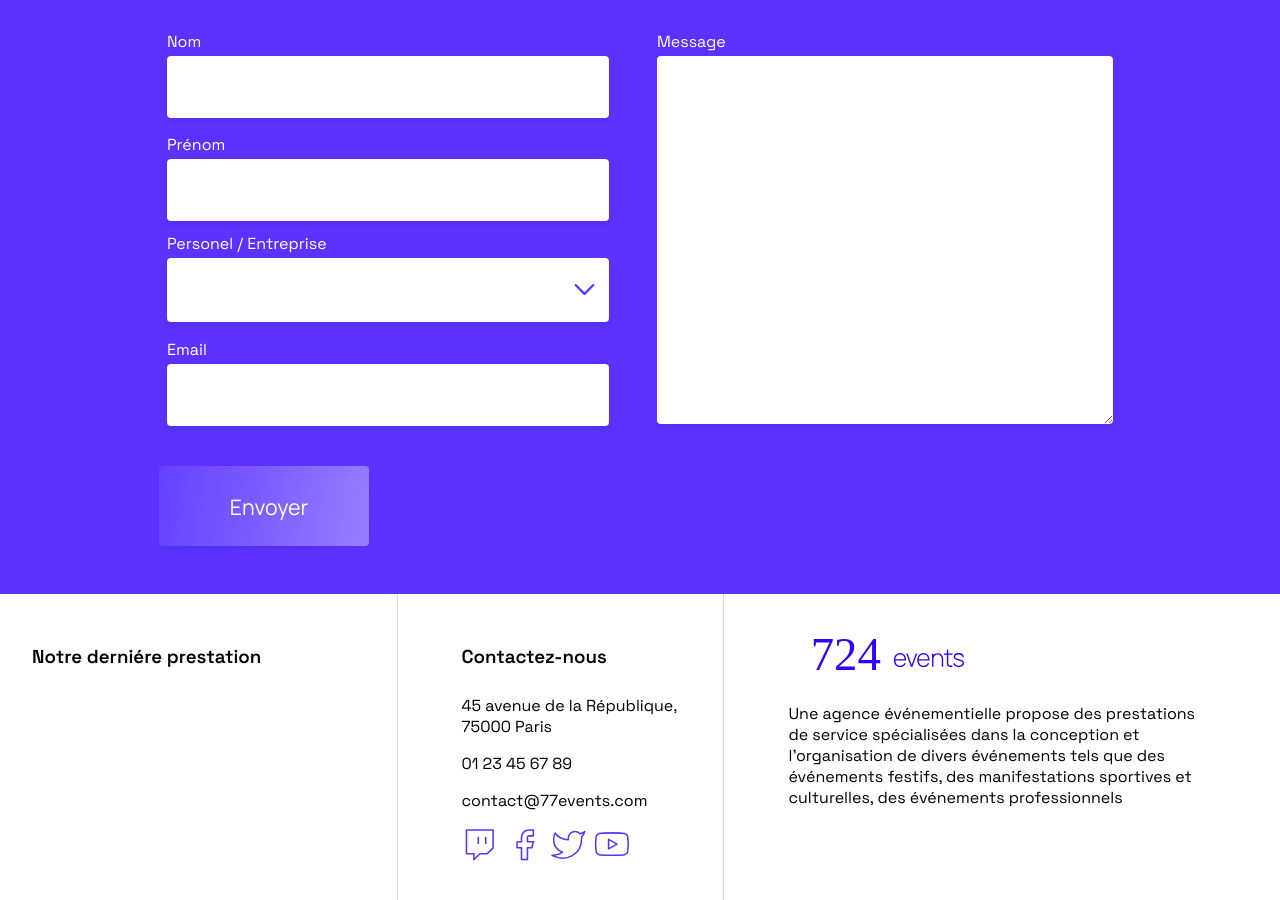
Test case: When Form is created › and a click is triggered on the submit button › the success message is displayed
(page scrolled)
Click the button "Envoyer" at [264, 506], box 159,466 -> 369,546
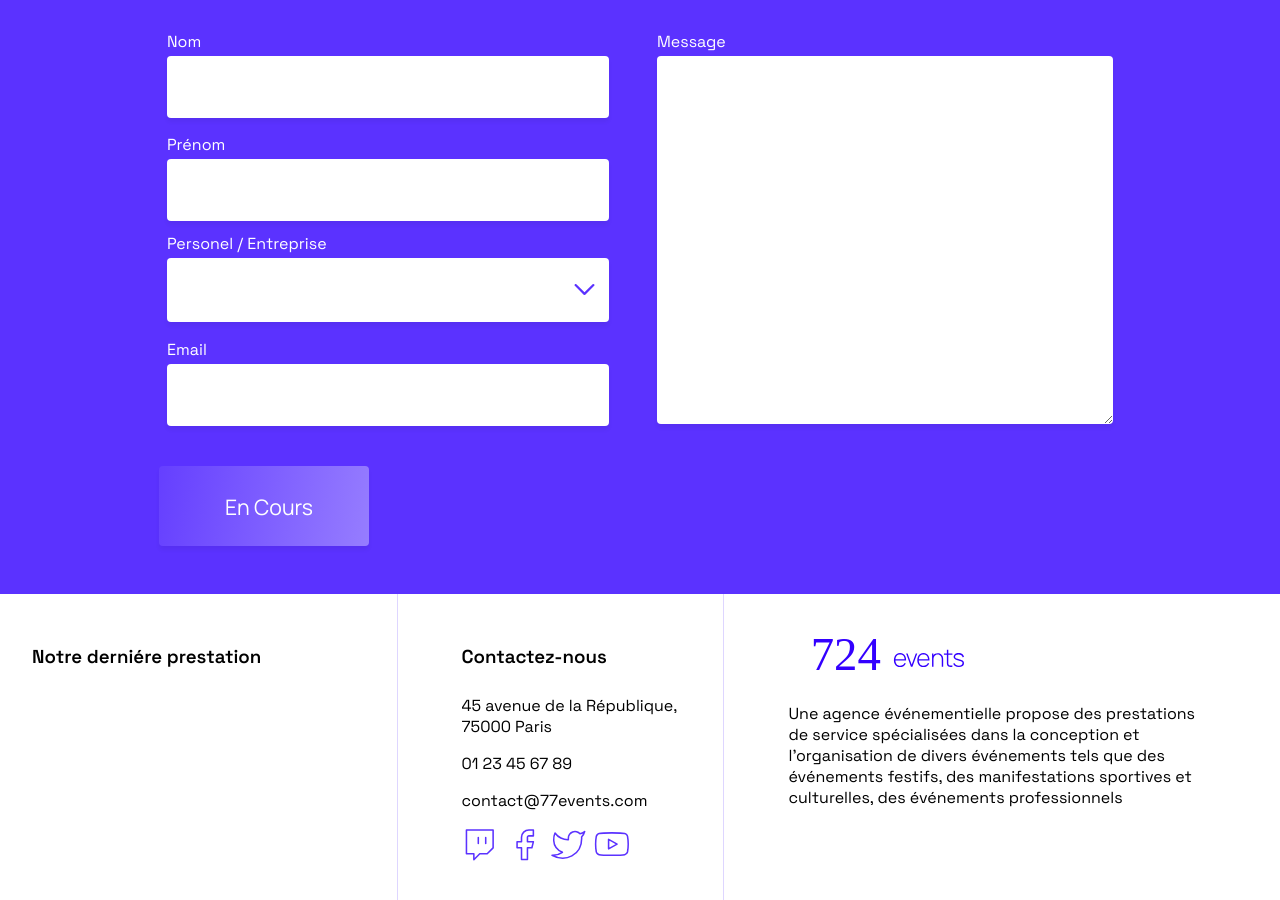
Now the button "En cours" is shown, box 159,466 -> 369,546
